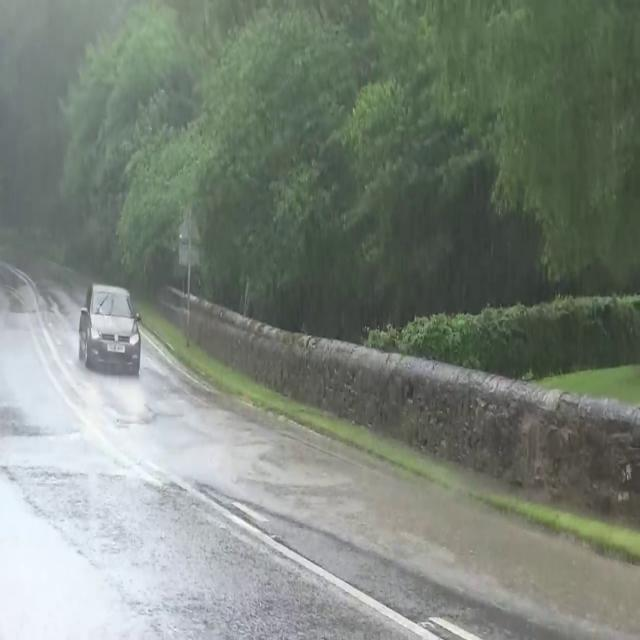license-plate-annotation: (105, 337, 127, 356)
